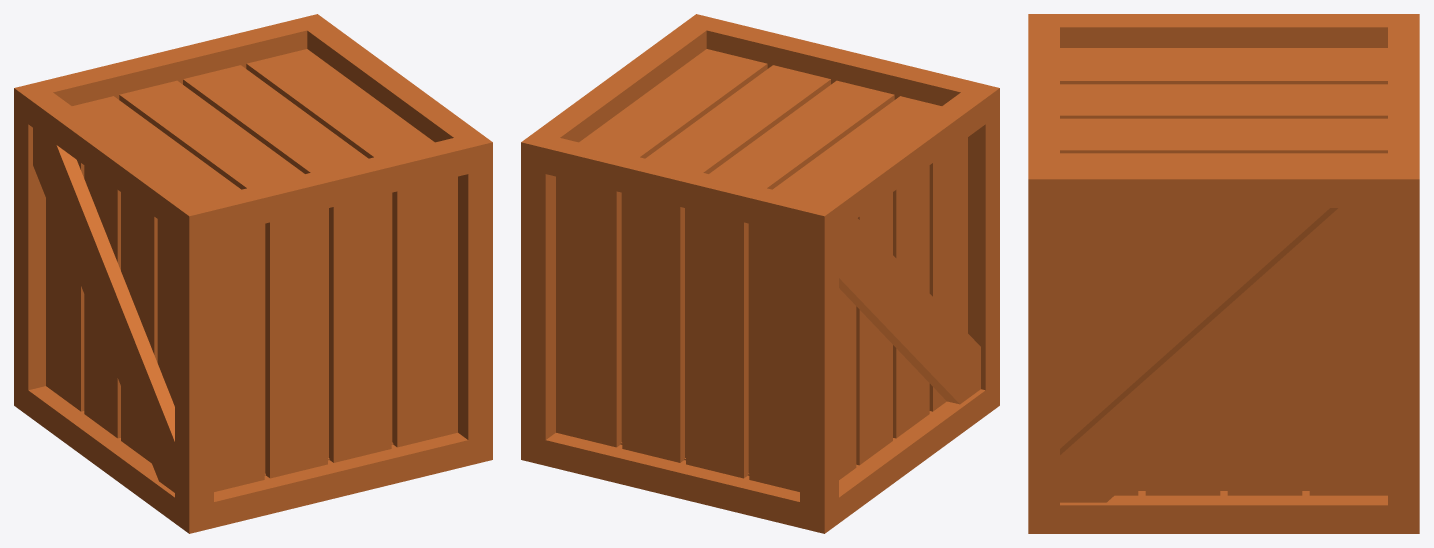
The model's file is WoodCrate_01.fbx.
The picture shows the model from 3 angles, left to right: view 1: azimuth 30°, elevation 25°; view 2: azimuth 150°, elevation 25°; view 3: azimuth 270°, elevation 25°; orthographic projection. The views are drawn at different scales.
Visible parts, largest first — view 1: WoodCrate_01; view 2: WoodCrate_01; view 3: WoodCrate_01.
Part boxes in pixels (x1,y1,x2,y2): WoodCrate_01: (14, 14, 492, 533); WoodCrate_01: (521, 14, 999, 533); WoodCrate_01: (1028, 14, 1419, 533).
Size of the model in its own units: 100 by 100 by 100.
